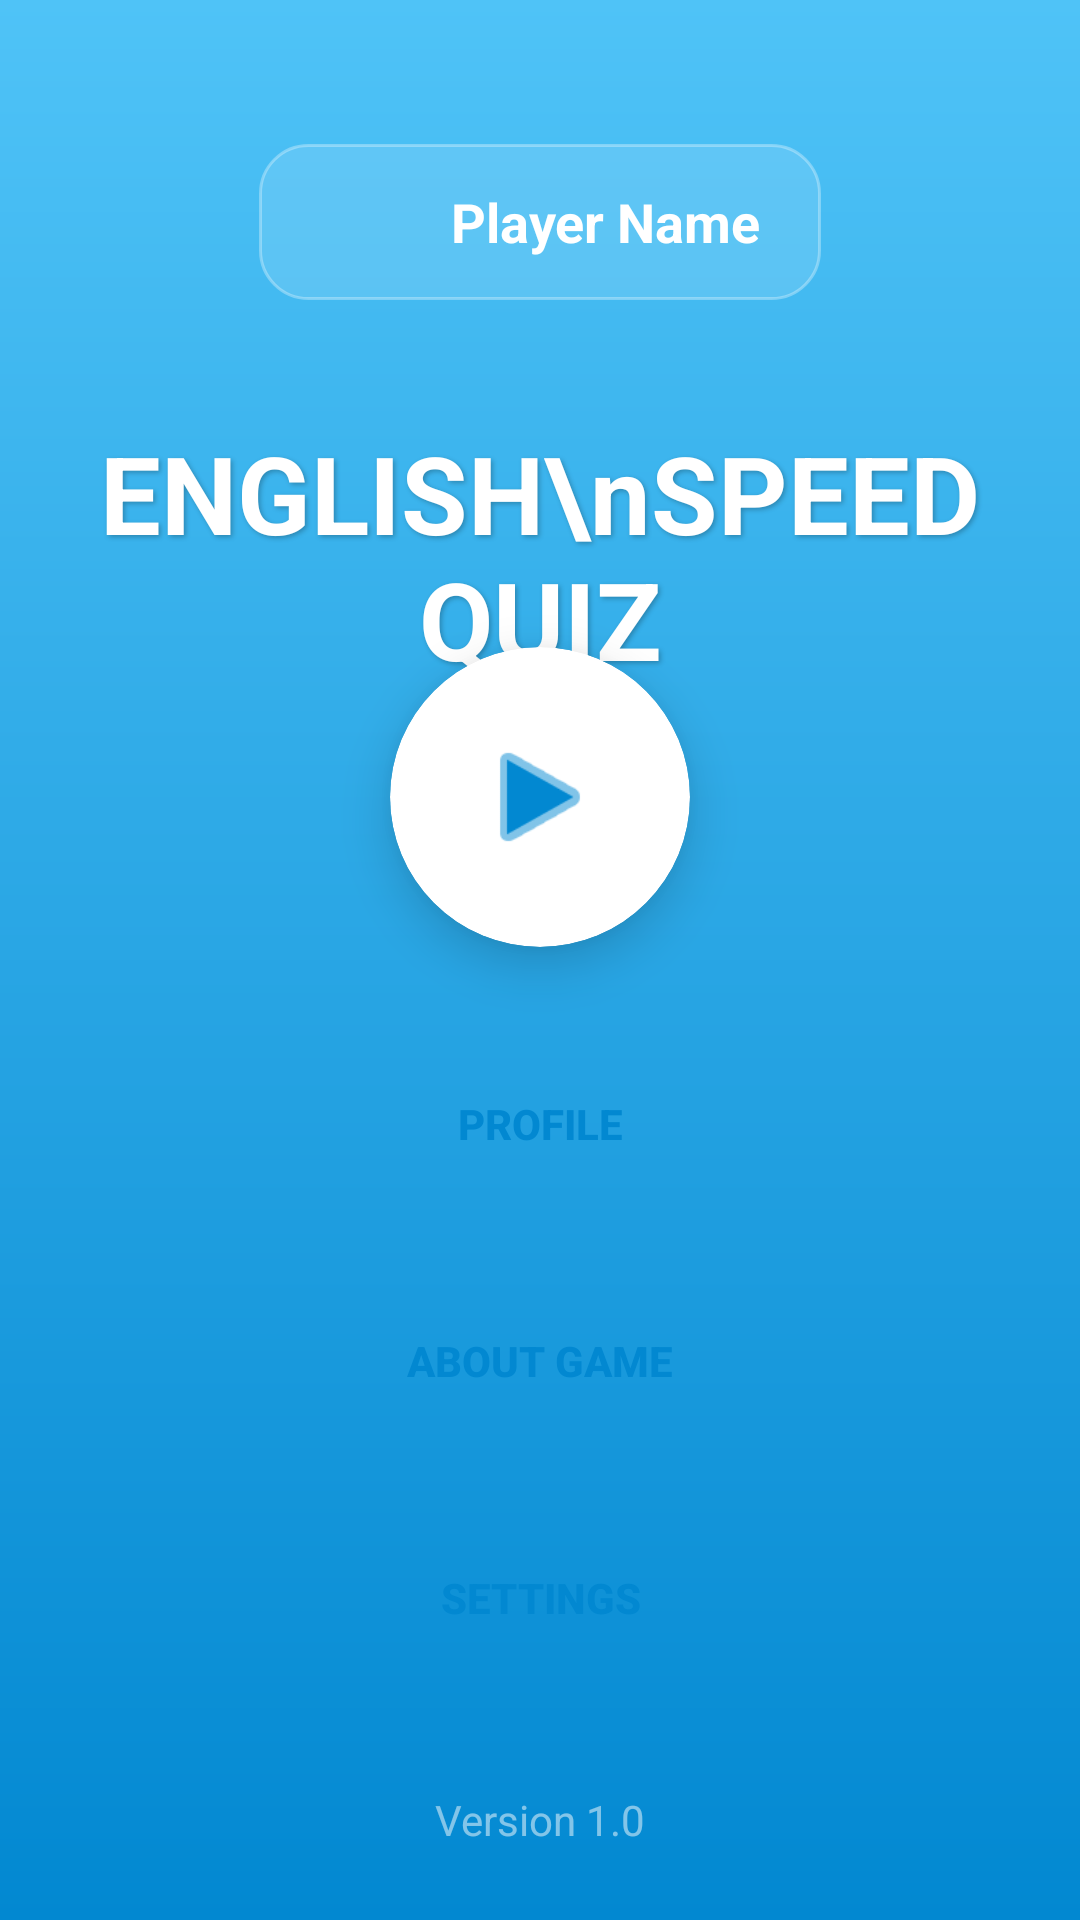

Where to tap for icons on this 1080px x 1920px app screen, as (x=x, y=y):
play: (x=540, y=797)
